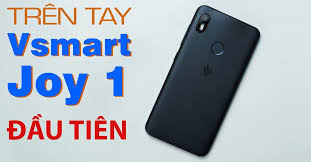vsmart: (144, 1, 262, 158)
